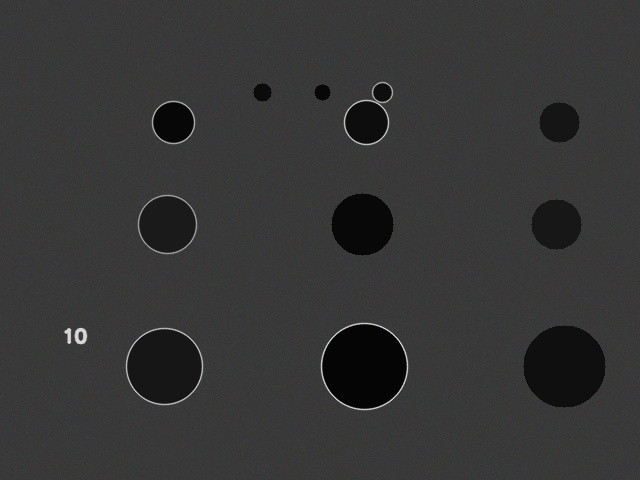hole: (321, 323, 407, 409), (523, 325, 605, 407), (126, 328, 202, 404), (331, 193, 393, 255), (138, 195, 196, 253), (531, 199, 581, 249), (344, 100, 388, 144), (152, 101, 194, 143), (539, 102, 579, 142), (372, 82, 392, 102), (253, 83, 271, 101), (314, 84, 330, 100)
